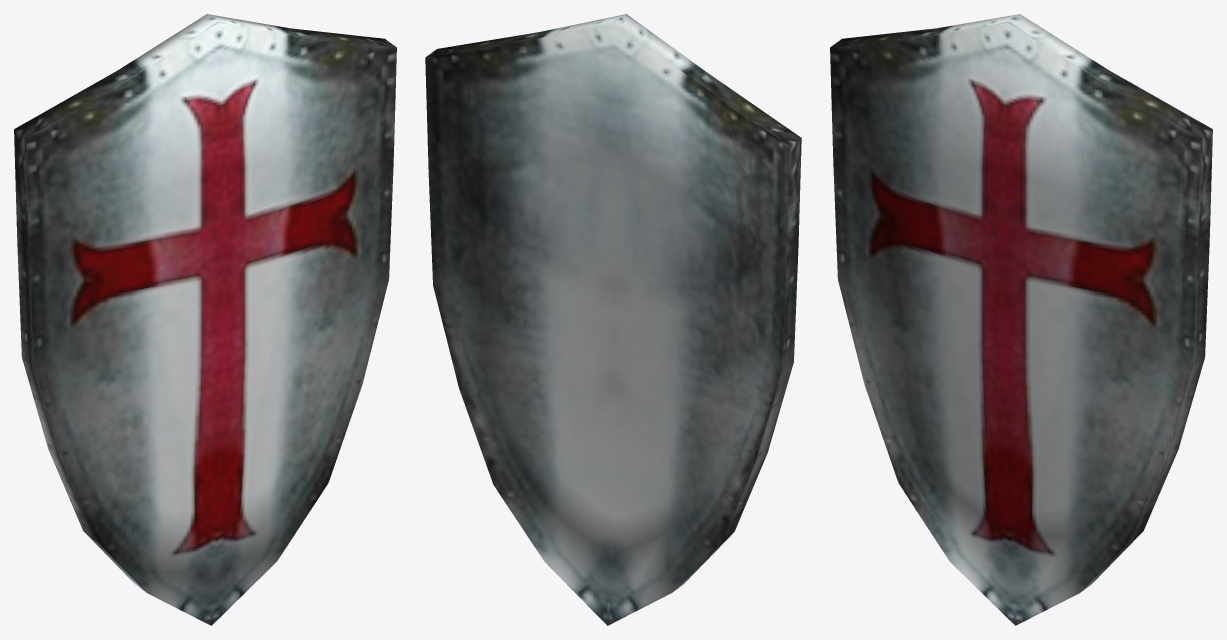
File: Shield_Crusader.fbx
The picture shows the model from 3 angles, left to right: view 1: azimuth 30°, elevation 25°; view 2: azimuth 150°, elevation 25°; view 3: azimuth 330°, elevation 25°; orthographic projection.
Parts seen in each view (by area): view 1: Shield_Crusader; view 2: Shield_Crusader; view 3: Shield_Crusader.
Boxes of the visible parts, x1,y1,x2,y2 form: Shield_Crusader: (14,14,396,625); Shield_Crusader: (425,14,801,625); Shield_Crusader: (830,14,1212,625).
Size of the model in its own units: 44.63 by 69.96 by 5.26.
